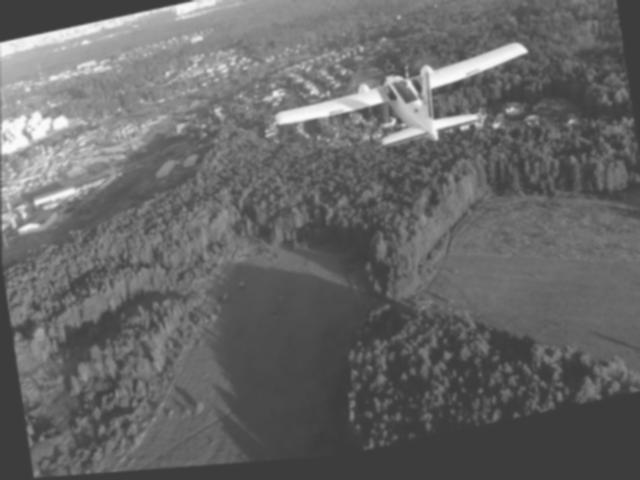hedef: (264, 41, 550, 180)
